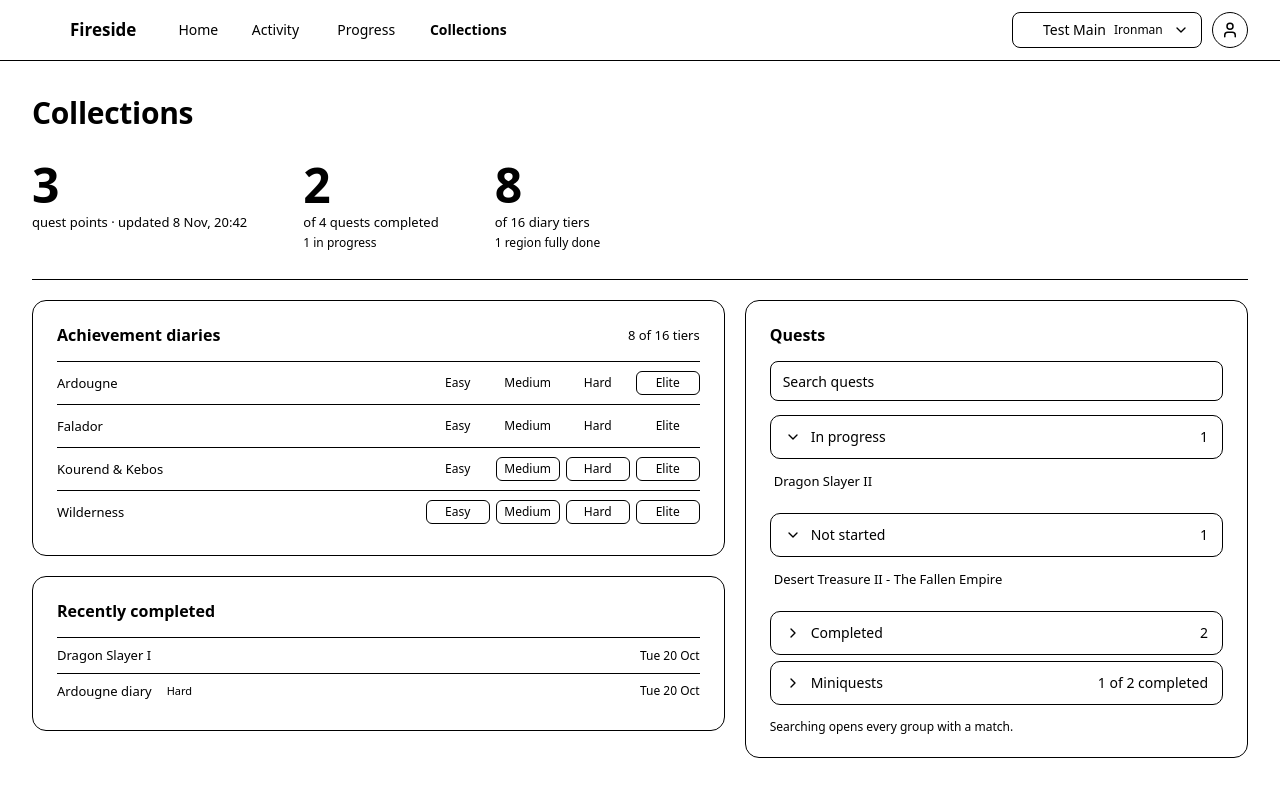
it: Quests & diaries › searches miniquests too, replaces the URL, and folds back when the search is cleared
Type "soul" into the search field labelled "Search quests".
click(996, 382); type("soul")  # box [770,362,1223,402]
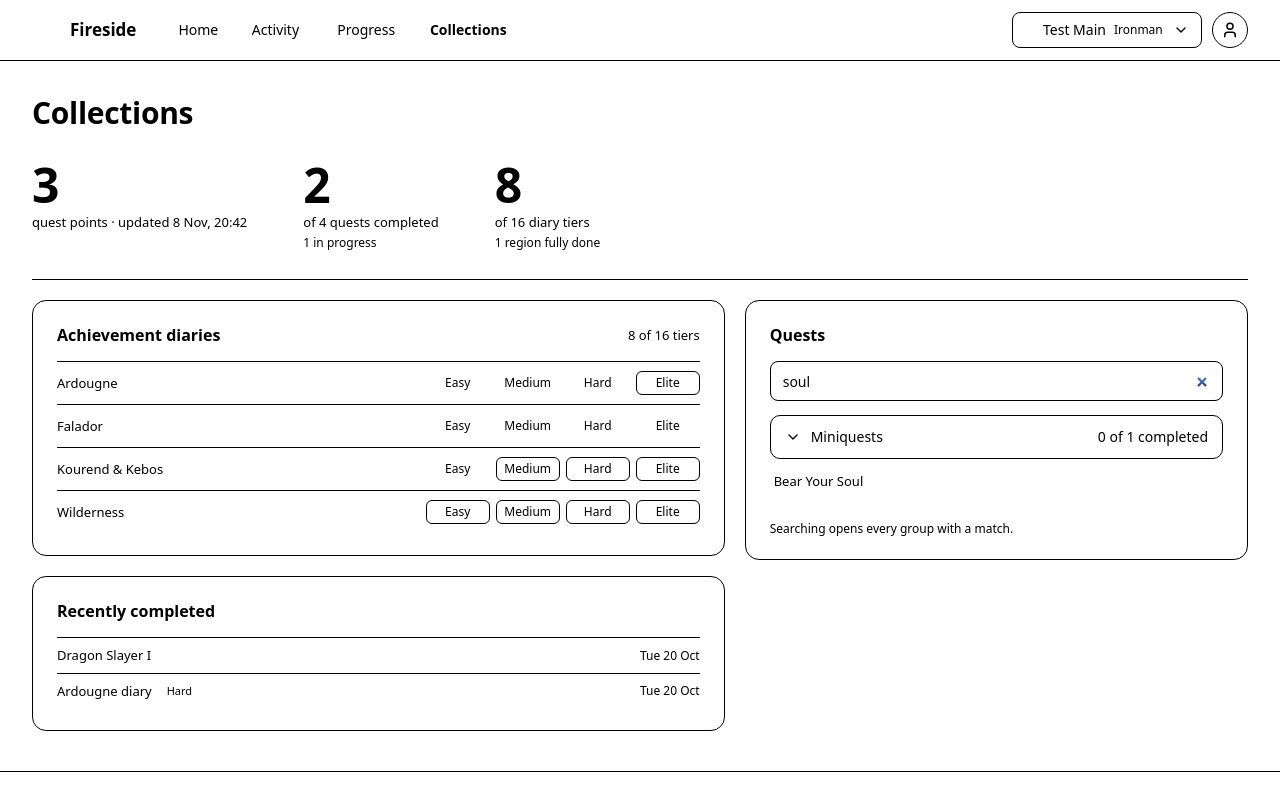
Expected: the button "Miniquests 0 of 1 completed" is shown, [770,416,1223,460]
Clear the search field named "Search quests" at (996, 382), box [770,362,1223,402]
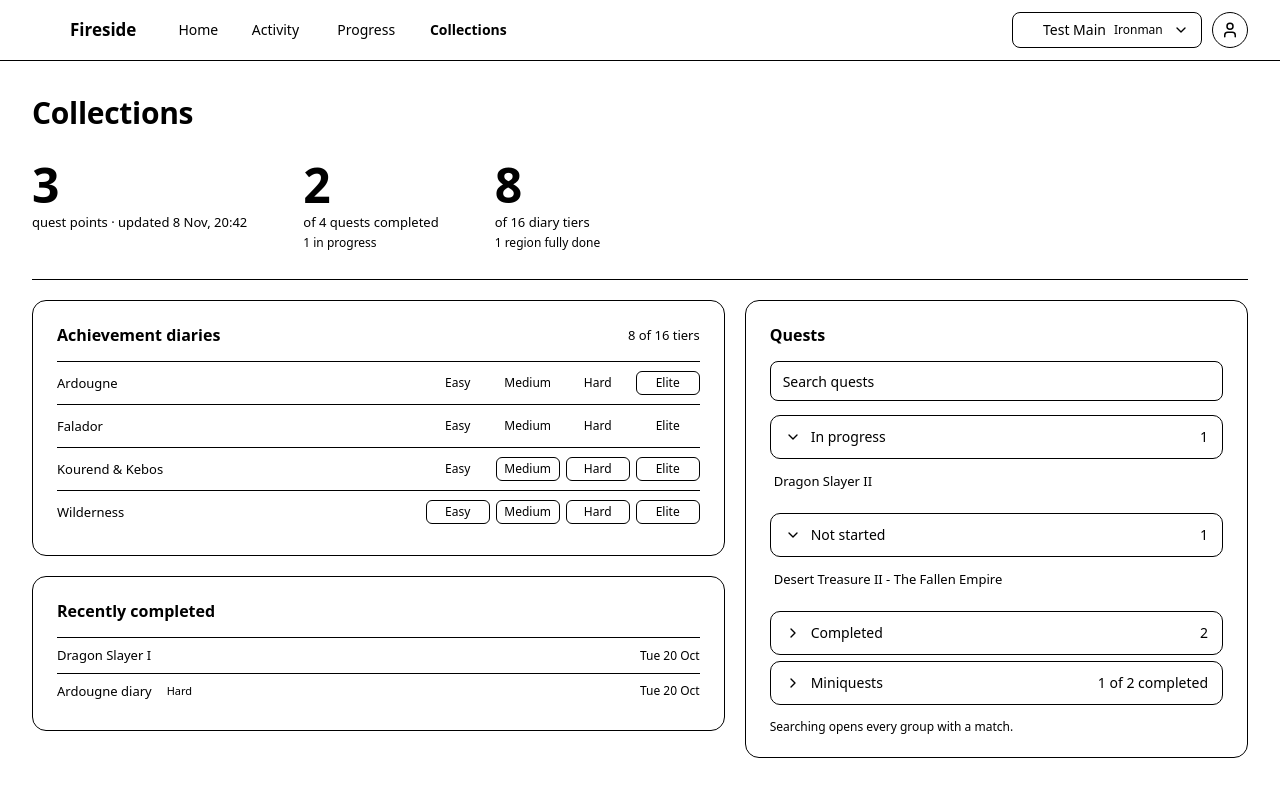
Expected: the button "Miniquests 1 of 2 completed" is collapsed, [770,662,1223,706]
Expected: the list named "In progress" is shown, [774,472,872,490]
